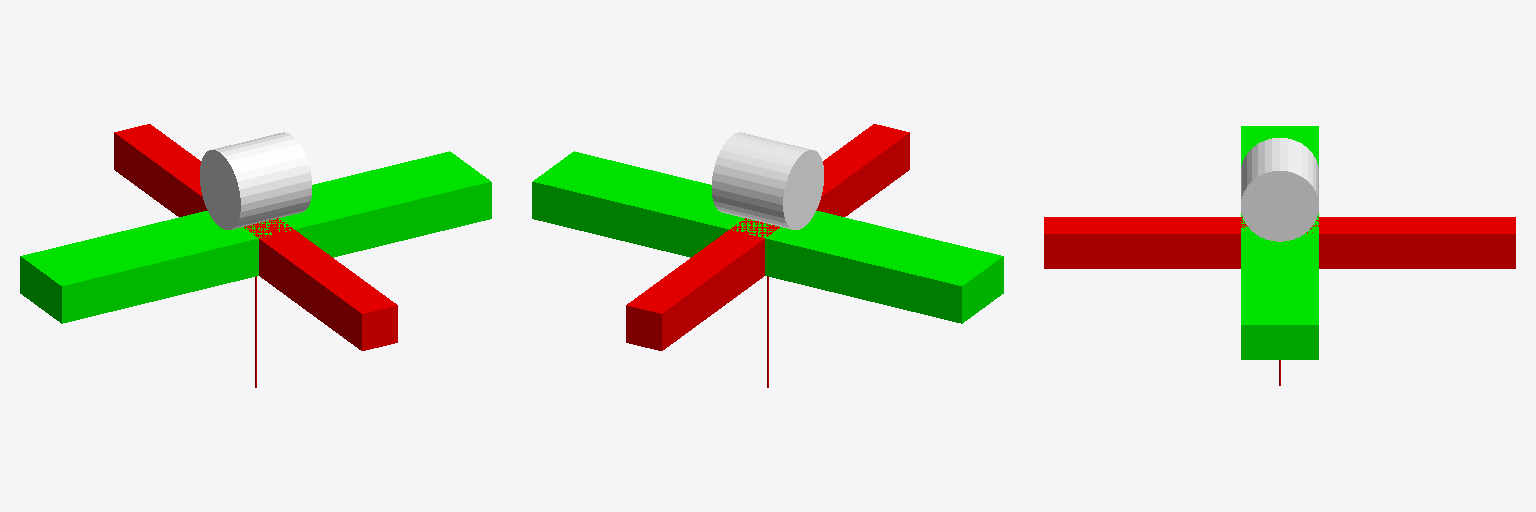
robot.urdf — task6_0:
<?xml version="1.0"?>
<robot name="task6_0">
    <link name="world"/>

    <link name="base_link">
        <origin xyz="0.0 0.0 0.0" rpy="0.0 0.0 0.0"/>
    </link>

    <link name="y_axis_link">
        <inertial>
            <origin xyz="0.0 0.0 0.0" rpy="0.0 0.0 0.0"/>
            <mass value="0.0"/>
            <inertia ixx="0.0" ixy="0.0" ixz="0.0" iyy="0.0" iyz="0.0" izz="0.0"/>
        </inertial>
        <visual name="">
            <origin xyz="0.0 0.0 0.0" rpy="0.0 0.0 0.0"/>
            <geometry>
                <box size="0.600 0.1 0.05"/>
            </geometry>
            <material name="">
                <color rgba="0.0 1.0 0.0 1.0"/>
                <texture filename=""/>
            </material>
        </visual>
        <collision>
            <origin xyz="0.0 0.0 0.0" rpy="0.0 0.0 0.0"/>
            <geometry>
                <box size="0.0 0.0 0.0"/>
            </geometry>
        </collision>
    </link>

    <link name="x_axis_link">
        <inertial>
            <origin xyz="0.0 0.0 0.0" rpy="0.0 0.0 0.0"/>
            <mass value="0.0"/>
            <inertia ixx="0.0" ixy="0.0" ixz="0.0" iyy="0.0" iyz="0.0" izz="0.0"/>
        </inertial>
        <visual name="">
            <origin xyz="0.0 0.0 0.0" rpy="0.0 0.0 0.0"/>
            <geometry>
                <box size="0.05 0.600 0.05"/>
            </geometry>
            <material name="red">
                <color rgba="1.0 0.0 0.0 1.0"/>
                <texture filename=""/>
            </material>
        </visual>
        <collision>
            <origin xyz="0.0 0.0 0.0" rpy="0.0 0.0 0.0"/>
            <geometry>
                <box size="0.05 0.05 0.300"/>
            </geometry>
        </collision>
    </link>

    <link name="spindle_base_link">
        <inertial>
            <origin xyz="0.0 0.0 0.0" rpy="0.0 0.0 0.0"/>
            <mass value="0.0"/>
            <inertia ixx="0.0" ixy="0.0" ixz="0.0" iyy="0.0" iyz="0.0" izz="0.0"/>
        </inertial>
        <visual name="">
            <origin xyz="0.0 0.0 0.0" rpy="0.0 0.0 0.0"/>
            <geometry>
                <sphere radius="0.025"/>
            </geometry>
            <material name="">
                <color rgba="1.0 1.0 1.0 1.0"/>
                <texture filename=""/>
            </material>
        </visual>
        <collision>
            <origin xyz="0.0 0.0 0.0" rpy="0.0 0.0 0.0"/>
            <geometry>
                <sphere radius="0.025"/>
            </geometry>
        </collision>
    </link>

    <link name="spindle_nozzle_link">
        <inertial>
            <origin xyz="0.0 0.0 0.0" rpy="0.0 0.0 0.0"/>
            <mass value="0.0"/>
            <inertia ixx="0.0" ixy="0.0" ixz="0.0" iyy="0.0" iyz="0.0" izz="0.0"/>
        </inertial>
        <visual name="">
            <origin xyz="0.0 0.0 0.100" rpy="0.0 0.0 0.0"/>
            <geometry>
                <cylinder radius="0.001" length="0.200"/>
            </geometry>
            <material name="">
                <color rgba="1.0 0.0 0.0 1.0"/>
                <texture filename=""/>
            </material>
        </visual>
        <collision>
            <origin xyz="0.0 0.0 0.0" rpy="0.0 0.0 0.0"/>
            <geometry>
                <cylinder radius="0.001" length="0.200"/>
            </geometry>
        </collision>
    </link>

    <link name="spindle_nozzle_end_link">
        <inertial>
            <origin xyz="0.0 0.0 0.0" rpy="0.0 0.0 0.0"/>
            <mass value="0.0"/>
            <inertia ixx="0.0" ixy="0.0" ixz="0.0" iyy="0.0" iyz="0.0" izz="0.0"/>
        </inertial>
        <visual name="">
            <origin xyz="0.0 0.0 0.0" rpy="0.0 0.0 0.0"/>
            <geometry>
                <sphere radius="0.001"/>
            </geometry>
            <material name="">
                <color rgba="1.0 1.0 1.0 1.0"/>
                <texture filename=""/>
            </material>
        </visual>
        <collision>
            <origin xyz="0.0 0.0 0.0" rpy="0.0 0.0 0.0"/>
            <geometry>
                <sphere radius="0.005"/>
            </geometry>
        </collision>
    </link>

    <link name="rotor_link">
        <visual name="">
            <origin xyz="0.0 0.0 0" rpy="0 1.57 0"/>
            <geometry>
                <cylinder radius="0.05" length="0.1"/>
            </geometry>
            <material name="">
                <color rgba="1.0 1.0 1.0 1.0"/>
                <texture filename=""/>
            </material>
        </visual>
        <collision>
            <origin xyz="0.0 0.0 0.0" rpy="0.0 0.0 0.0"/>
            <geometry>
                <cylinder radius="0.005" length="0.200"/>
            </geometry>
        </collision>
    </link>

<!--======================================================================================================================================================================================= 
==================================================================================Joints===================================================================================================
=========================================================================================================================================================================================== -->


    <joint name="world_base_joint" type="fixed">
        <parent link="world"/>
        <child link="base_link"/>
        <origin xyz="0.0 0.0 0.0" rpy="0.0 0.0 0.0"/>
    </joint>

    <!-- Breaking some rules here, as even though this is only a prismatic joint , we are also giving it a yaw -->
    <joint name="x_axis_base_link_joint" type="prismatic">
        <parent link="base_link"/>
        <child link="x_axis_link"/>
        <axis xyz="1 0 0"/>
        <limit lower="-0.3" upper="0.3" velocity="0.5" effort="1000.0"/>
        <origin xyz="0 0 0" rpy="0 0 0"/>
    </joint>
    
    <joint name="y_axis_base_joint" type="prismatic">
        <origin xyz="0.0 0.0 0.0" rpy="0.0 0.0 0.0"/>
        <parent link="base_link"/>
        <child link="y_axis_link"/>
        <axis xyz="0.0 1.0 0.0"/>
        <limit lower="-0.300" upper="0.300" effort="0.0" velocity="0.0"/>
    </joint>

    <joint name="base_spindle_base_joint" type="prismatic">
        <origin xyz="0.0 0.0 0.0" rpy="0.0 0.0 0.0"/>
        <parent link="base_link"/>
        <child link="spindle_base_link"/>
        <axis xyz="0.0 0.0 1"/>
        <limit lower="0.0" upper="0.4" effort="0.0" velocity="0.0"/>
    </joint>

    <joint name="spindle_base_spindle_nozzle_pitch" type="revolute">
        <parent link="spindle_base_link"/>
        <child link="spindle_nozzle_link"/>
        <axis xyz="0 1 0"/>
        <limit lower="-0.7853981630" upper="0.7853981630" velocity="50.0" effort="1000.0"/>
        <origin xyz="0 0 0" rpy="0 3.1415 0"/>
    </joint>
    

    <joint name="spindle_nozzle_end_spindle_nozzle_joint" type="fixed">
        <parent link="spindle_nozzle_link"/>
        <child link="spindle_nozzle_end_link"/>
        <origin xyz="0.0 0.0 0.20" rpy="0.0 0.0 0.0"/>
    </joint>

    <joint name="rotor_world" type="revolute">
        <parent link="x_axis_link"/>
        <child link="rotor_link"/>
        <axis xyz="1 0 0"/>
        <limit lower="0" upper="6.28" velocity="50.0" effort="1000.0"/>
        <origin xyz="0 0 0.075" rpy="0 0 0"/>
    </joint>




    <link name="drill_bit">
        <origin xyz="0.0 0.0 0.0" rpy="0.0 0.0 0.0"/>
        <visual>
            <origin xyz="-0.014 -0.014 0" rpy="0.0 0.0 0.0"/>
            <geometry>
                <mesh filename="package://task7_0/meshes/drill_beat.STL" />
            </geometry>
            <material name="">
                <color rgba="0.0 0.0 1.0 1.0"/>
                <texture filename=""/>
        </material> 
        </visual> 
        <collision>
            <origin xyz="0.0 0.0 0.0" rpy="0.0 0.0 0.0"/>
            <geometry>
                <mesh filename="package://task7_0/meshes/drill_beat.STL" />
            </geometry>
        </collision>      
    </link>


    <joint name="drill_bit_rotor" type="fixed">
        <parent link="rotor_link"/>
        <child link="drill_bit"/>
        <axis xyz="1 0 0"/>
        <limit lower="0" upper="6.28" velocity="50.0" effort="1000.0"/>
        <origin xyz="0.05 0 0" rpy="0.0 1.57 0"/>
    </joint>

</robot>

--- Facts derived from the render (not from the file) ---
The picture shows the robot from 3 angles, left to right: view 1: azimuth 30°, elevation 25°; view 2: azimuth 150°, elevation 25°; view 3: azimuth 270°, elevation 25°; orthographic projection.
Robot: task6_0 — 9 links, 8 joints (2 revolute, 3 prismatic, 3 fixed); root link world; default pose: every joint at zero.
Links seen in each view (by area): view 1: y_axis_link, x_axis_link, rotor_link; view 2: y_axis_link, x_axis_link, rotor_link; view 3: x_axis_link, y_axis_link, rotor_link.
Boxes of the visible links, x1,y1,x2,y2 form: y_axis_link: (20, 151, 491, 323); x_axis_link: (114, 124, 397, 350); rotor_link: (200, 132, 311, 229); y_axis_link: (532, 151, 1003, 323); x_axis_link: (626, 124, 909, 350); rotor_link: (712, 132, 823, 229); x_axis_link: (1044, 217, 1515, 268); y_axis_link: (1241, 126, 1318, 359); rotor_link: (1241, 138, 1318, 241).
Size in the robot's own frame: 0.6 by 0.6 by 0.326 metres.
0 mesh visuals loaded from 1 distinct referenced files (none loaded); not drawn: 1 (reference not matched to a file when rendering).